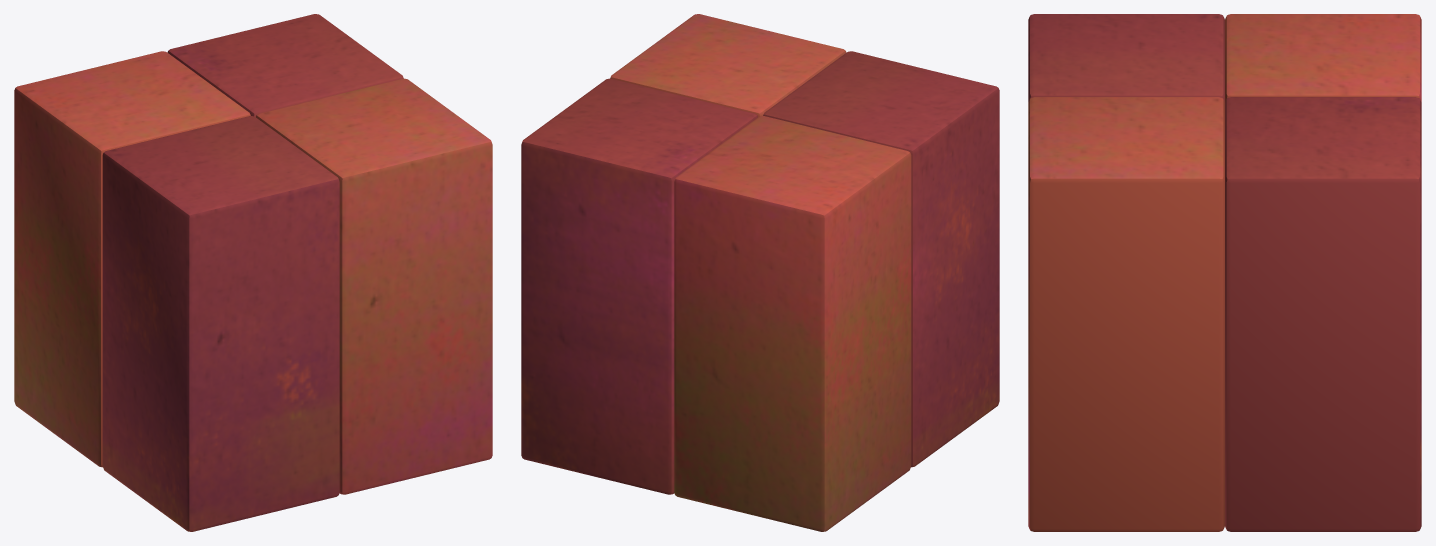
Rendered from TEMPLE_GROUND_003.obj.
3 views of the same model, side by side, from view 1: azimuth 30°, elevation 25°; view 2: azimuth 150°, elevation 25°; view 3: azimuth 270°, elevation 25° (orthographic). The views are drawn at different scales.
Visible parts, largest first — view 1: TEMPLE_GROUND_003; view 2: TEMPLE_GROUND_003; view 3: TEMPLE_GROUND_003.
Part boxes in pixels (bbox=[...]): TEMPLE_GROUND_003: bbox=[14, 14, 492, 531]; TEMPLE_GROUND_003: bbox=[521, 14, 999, 531]; TEMPLE_GROUND_003: bbox=[1028, 14, 1421, 531].
Size of the model in its own units: 1 by 1 by 1.
